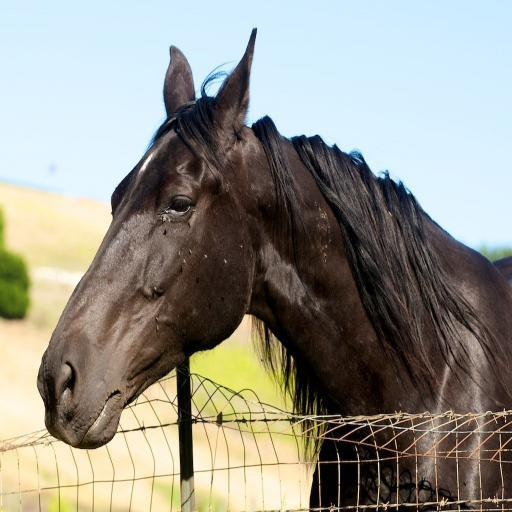Horse: (35, 27, 511, 511)
